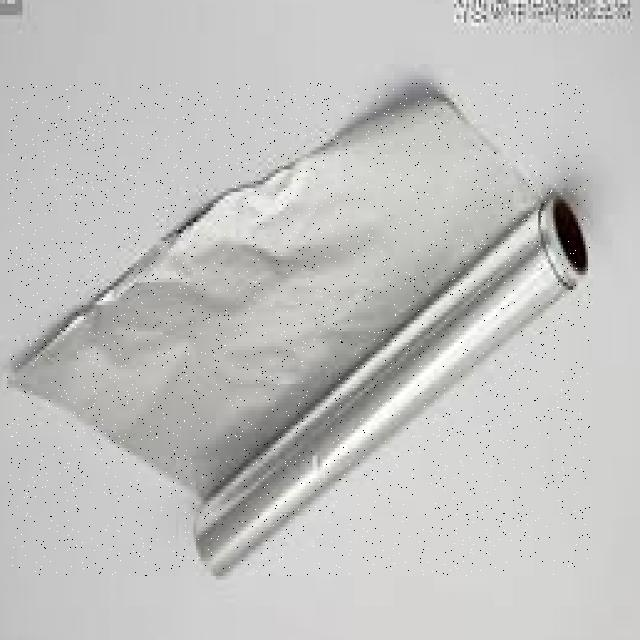metal: (8, 83, 590, 576)
